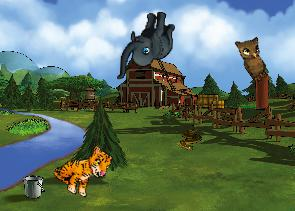elephant: (116, 9, 175, 81)
owl: (230, 30, 279, 84)
tiger: (49, 134, 116, 203)
